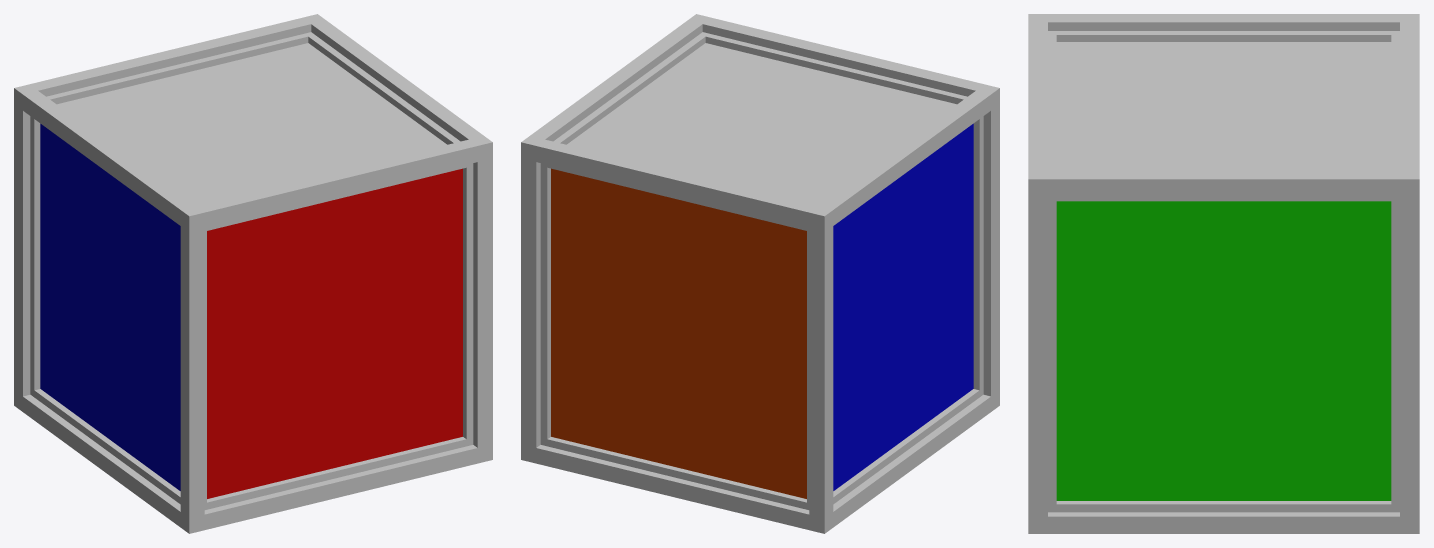
The picture shows the model from 3 angles, left to right: view 1: azimuth 30°, elevation 25°; view 2: azimuth 150°, elevation 25°; view 3: azimuth 270°, elevation 25°; orthographic projection. The views are drawn at different scales.
Parts seen in each view (by area): view 1: 立方体; view 2: 立方体; view 3: 立方体.
Boxes of the visible parts, x1,y1,x2,y2 form: 立方体: [14, 14, 492, 533]; 立方体: [521, 14, 999, 533]; 立方体: [1028, 14, 1419, 533].
Size of the model in its own units: 796 by 796 by 796.
